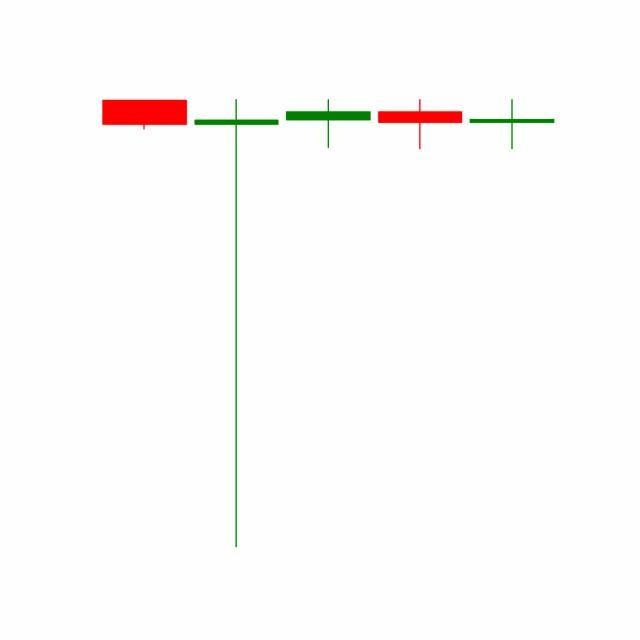Dragonfly Doji: (374, 99, 468, 151)
